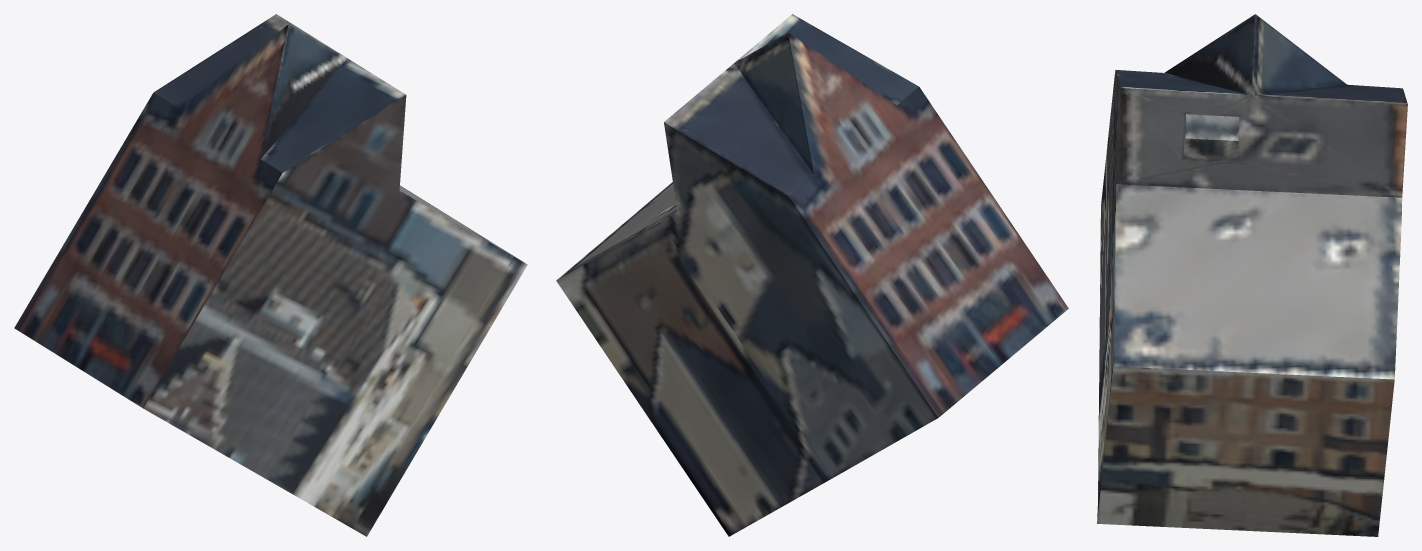
3 views of the same model, side by side, from view 1: azimuth 30°, elevation 25°; view 2: azimuth 150°, elevation 25°; view 3: azimuth 270°, elevation 25° (orthographic). The views are drawn at different scales.
Visible parts, largest first — view 1: BAG_0599100000671723 (×3); view 2: BAG_0599100000671723 (×3); view 3: BAG_0599100000671723 (×5).
Part boxes in pixels (x1,y1,x2,y2): BAG_0599100000671723 (×3): (14,14,527,536); BAG_0599100000671723 (×3): (556,14,1068,536); BAG_0599100000671723 (×5): (1097,14,1407,536).
Bounding box in the file's own units: 20.84 × 24.19 × 13.09.
5 materials, 5 textured.
